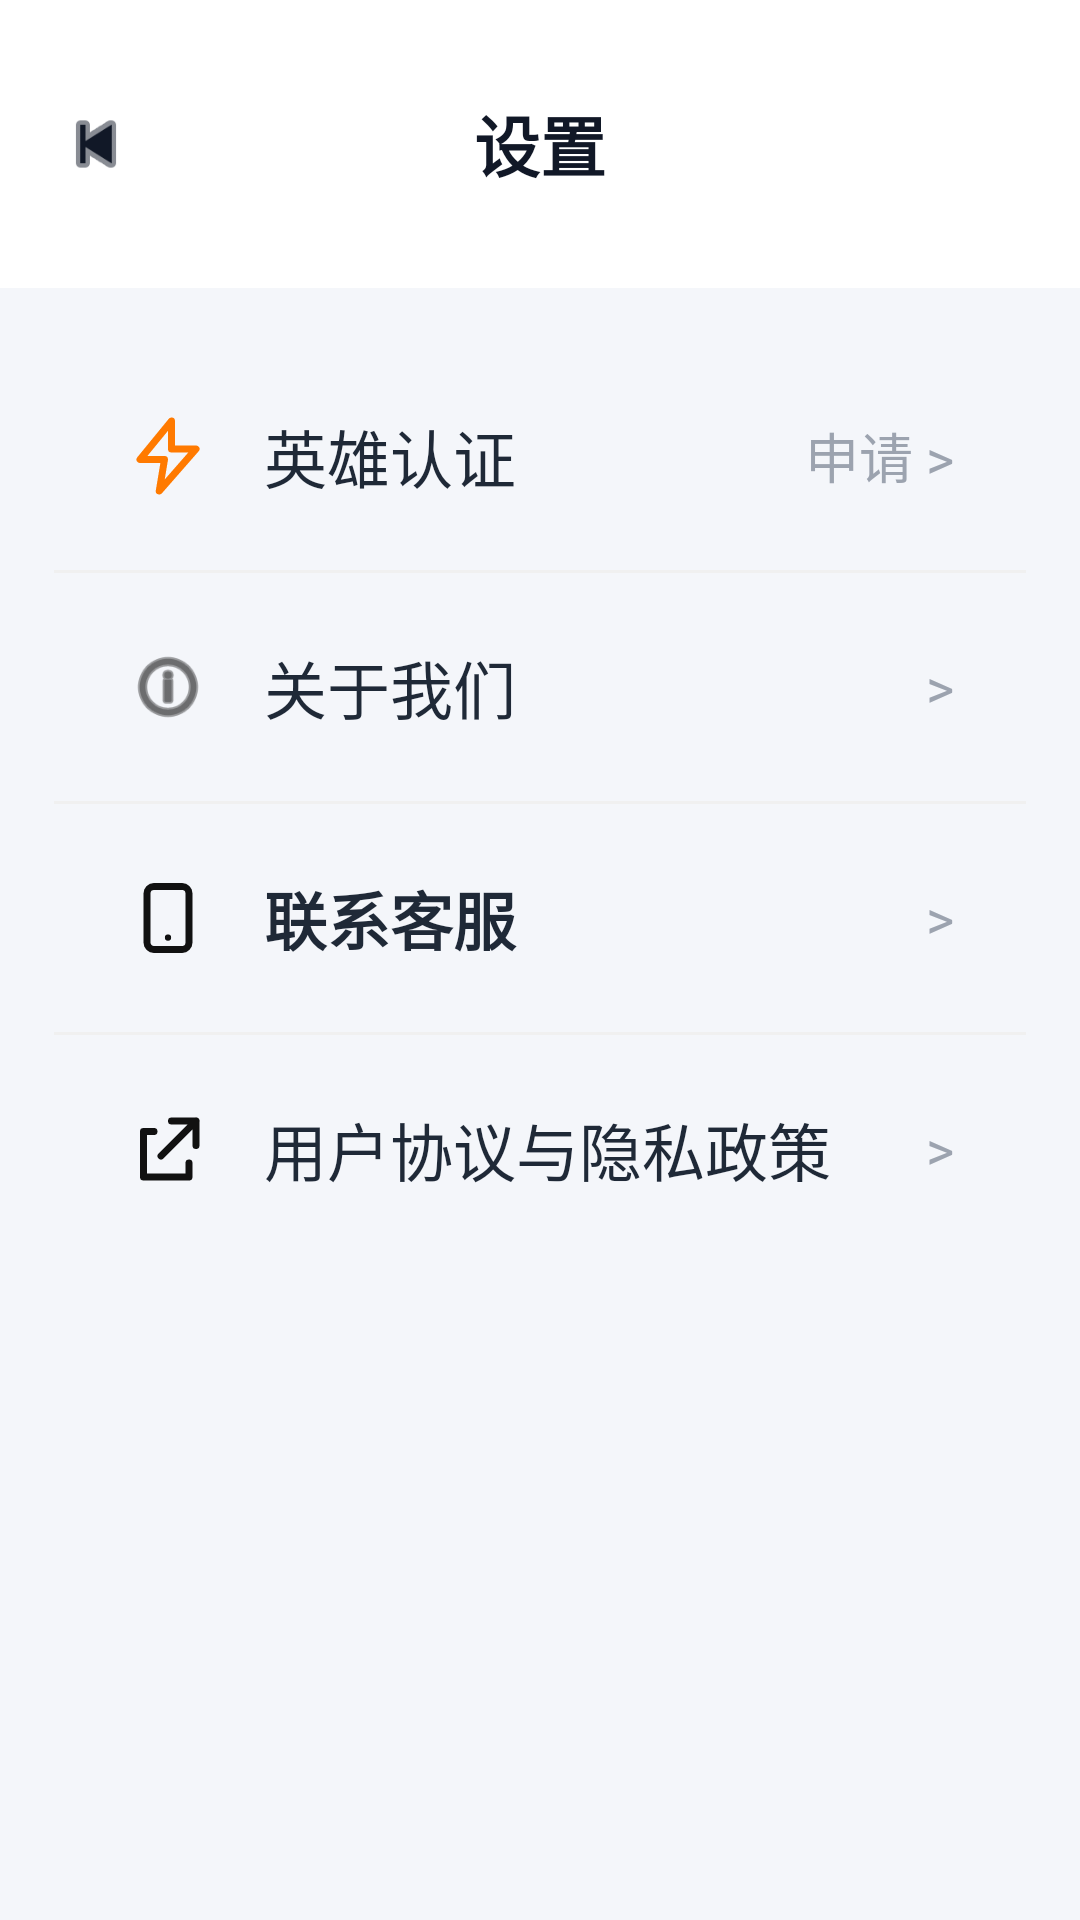

Screen size 1080×1920. Icon name, then its center in pixels as [x,y]:
bolt: [168,456]
info details: [168,687]
phone: [168,918]
